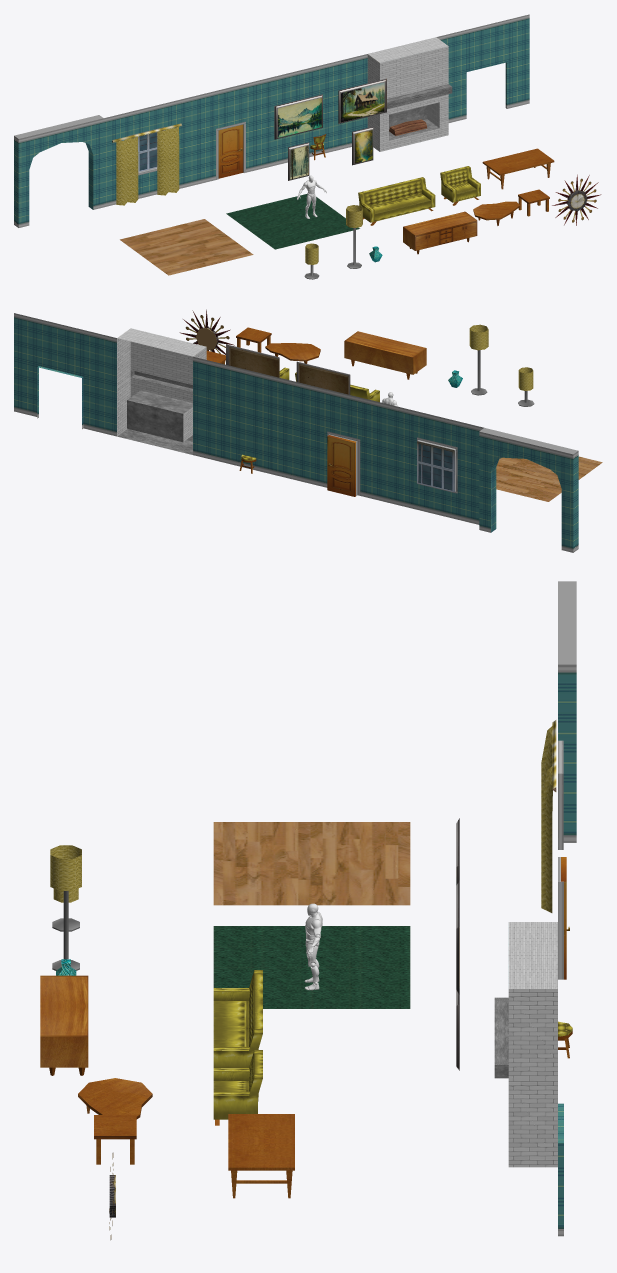
File: dining_chair.fbx
3 views of the same model, one above another, from view 1: azimuth 30°, elevation 25°; view 2: azimuth 150°, elevation 25°; view 3: azimuth 270°, elevation 25° (orthographic). The views are drawn at different scales.
Visible parts, largest first — view 1: wall_fireplace, wall_doorway, wall_archway, wall_window, wall, wall_archway2, floor, floor2, curtains, sofa, credenza, painting (+12 smaller); view 2: wall_fireplace, wall, wall_window, wall_doorway, wall_archway, wall_archway2, floor, credenza, wall_half, retro_door, painting, painting.001 (+6 smaller); view 3: floor, floor2, wall_fireplace, credenza, wall_archway2, dining_table, sofa, sofa_chair, curtains, coffee_table, lamp, end_table (+1 smaller).
Boxes of the visible parts, x1,y1,x2,y2 form: wall_fireplace: (359, 35, 452, 151); wall_doorway: (189, 77, 274, 186); wall_archway: (444, 14, 529, 122); wall_window: (104, 97, 188, 207); wall: (274, 56, 359, 165); wall_archway2: (14, 115, 103, 227); floor: (120, 219, 253, 275); floor2: (226, 193, 359, 249); curtains: (112, 123, 181, 205); sofa: (358, 177, 435, 225); credenza: (403, 211, 477, 254); painting: (274, 94, 322, 139); wall_fireplace: (108, 328, 206, 457); wall: (202, 359, 296, 479); wall_window: (390, 405, 483, 524); wall_doorway: (296, 382, 390, 502); wall_archway: (14, 313, 107, 434); wall_archway2: (479, 428, 578, 552); floor: (496, 456, 602, 501); credenza: (344, 331, 426, 379); wall_half: (202, 359, 249, 468); retro_door: (327, 435, 356, 496); painting: (296, 361, 350, 394); painting.001: (226, 344, 279, 377); floor: (213, 822, 410, 905); floor2: (213, 926, 410, 1008); wall_fireplace: (494, 922, 557, 1167); credenza: (40, 975, 88, 1075); wall_archway2: (558, 581, 576, 842); dining_table: (228, 1114, 294, 1198); sofa: (213, 970, 262, 1067); sofa_chair: (213, 1050, 262, 1125); curtains: (541, 720, 556, 912); coffee_table: (78, 1078, 152, 1119); lamp: (50, 845, 81, 970); end_table: (94, 1115, 136, 1164).
Bounding box in the file's own units: 2400 × 523 × 1090.
Materials: 4 (4 with a texture image).
